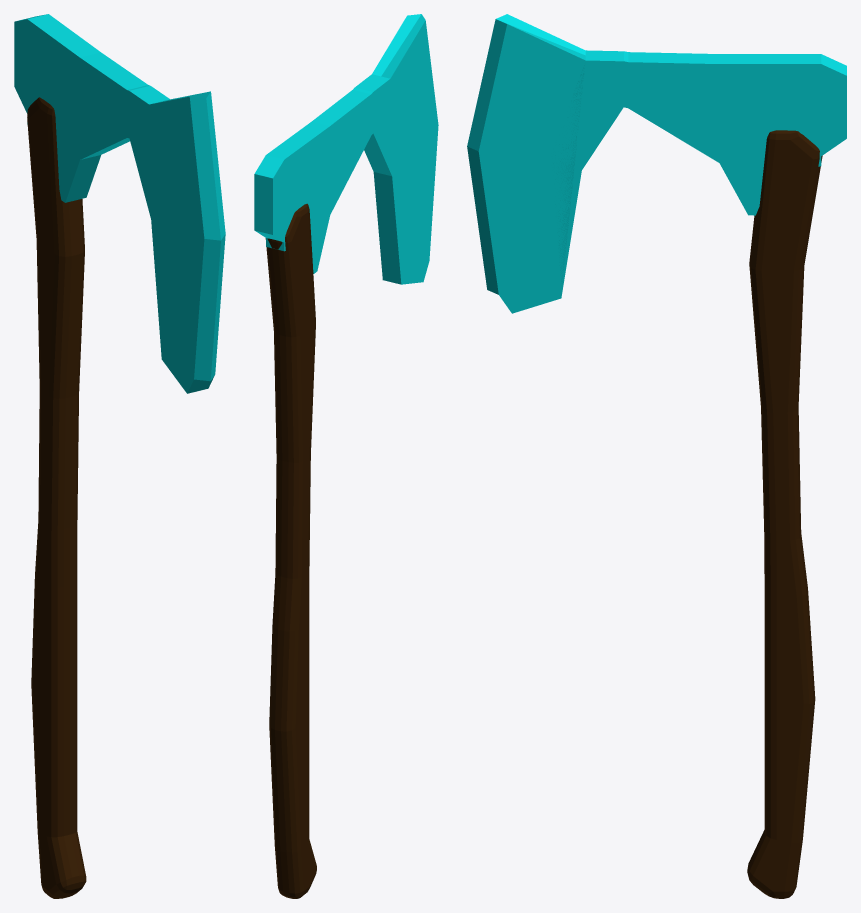
Rendered from SerkiaDiamond.fbx.
The picture shows the model from 3 angles, left to right: view 1: azimuth 30°, elevation 25°; view 2: azimuth 150°, elevation 25°; view 3: azimuth 270°, elevation 25°; orthographic projection. The views are drawn at different scales.
Parts seen in each view (by area): view 1: Cube, Cube.003; view 2: Cube.003, Cube; view 3: Cube, Cube.003.
Part boxes in pixels (left/top/right/bottom): Cube: left=14, top=14, right=225, bottom=393; Cube.003: left=27, top=97, right=86, bottom=898; Cube.003: left=265, top=203, right=316, bottom=898; Cube: left=254, top=14, right=438, bottom=284; Cube: left=467, top=14, right=846, bottom=313; Cube.003: left=747, top=130, right=822, bottom=898.
Bounding box in the file's own units: 0.1252 × 3.75 × 1.47.
